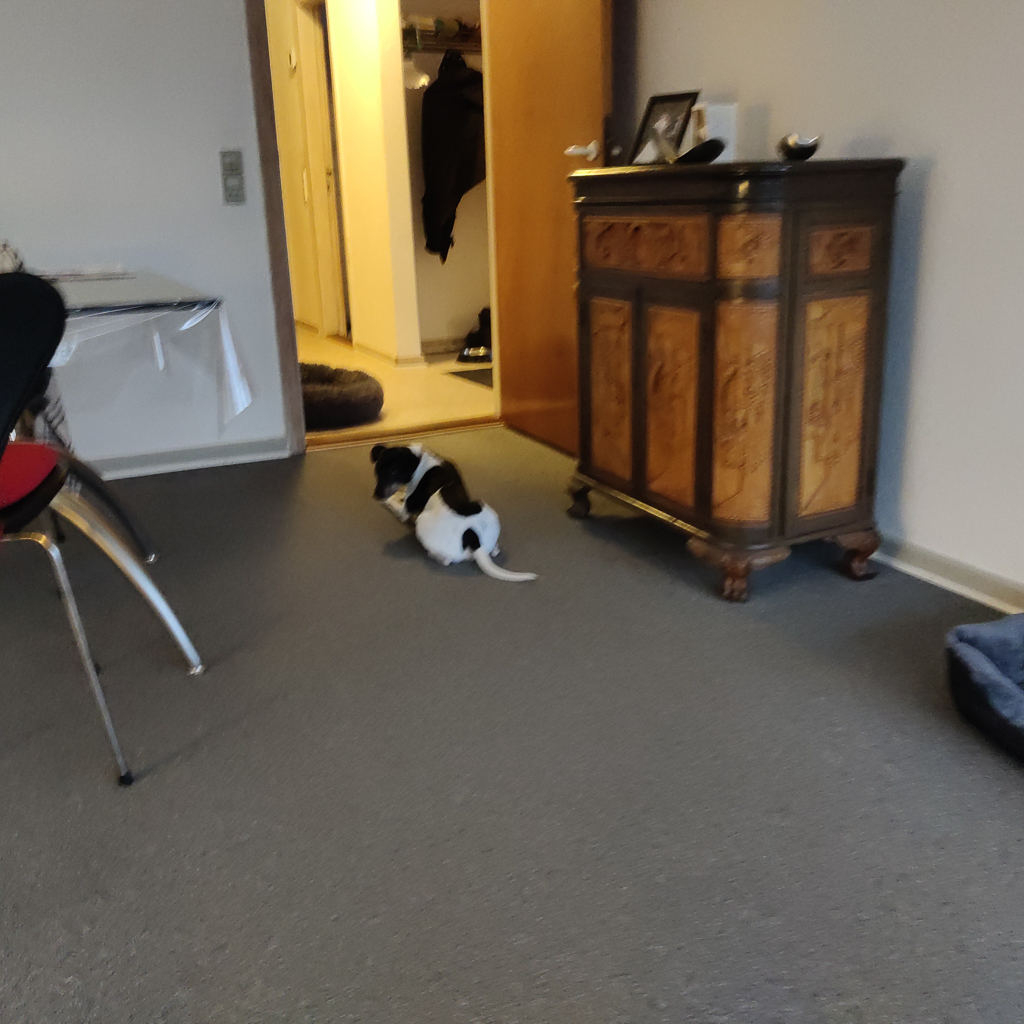Dog: (362, 436, 547, 590)
